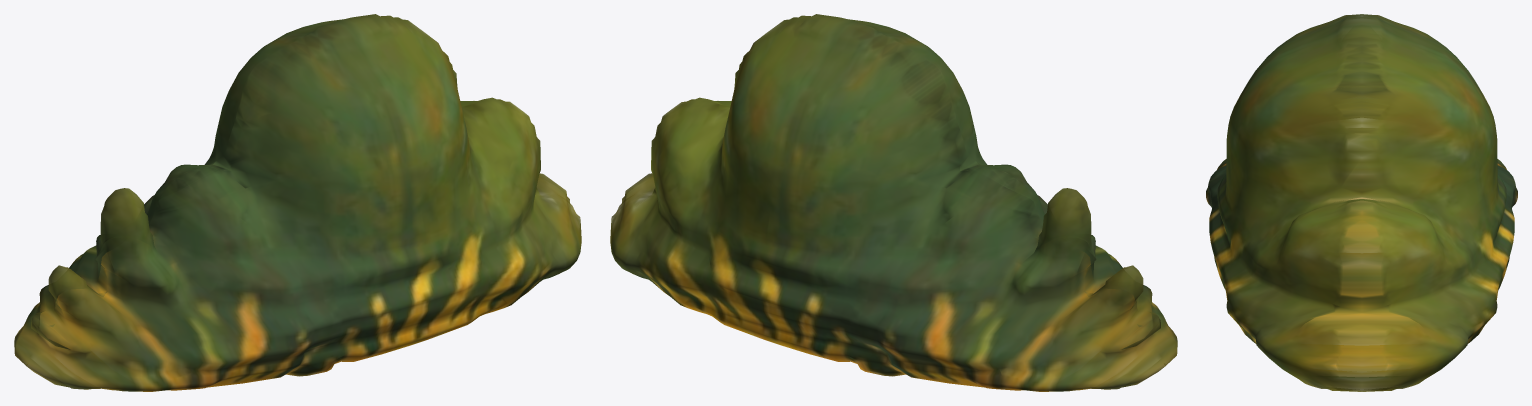
File: 01_rocks_and_bushes_r02_c06.glb
3 views of the same model, side by side, from view 1: azimuth 30°, elevation 25°; view 2: azimuth 150°, elevation 25°; view 3: azimuth 270°, elevation 25° (orthographic).
Visible parts, largest first — view 1: 01_rocks_and_bushes_r02_c06; view 2: 01_rocks_and_bushes_r02_c06; view 3: 01_rocks_and_bushes_r02_c06.
Boxes of the visible parts, x1=… form: 01_rocks_and_bushes_r02_c06: x1=14, y1=14, x2=581, y2=391; 01_rocks_and_bushes_r02_c06: x1=610, y1=14, x2=1177, y2=391; 01_rocks_and_bushes_r02_c06: x1=1206, y1=14, x2=1517, y2=391.
Bounding box in the file's own units: 2.27 × 1.15 × 1.14.
Materials: 1 (1 with a texture image).
